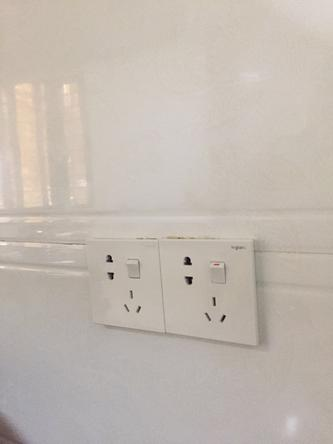switch: (208, 251, 228, 286), (122, 256, 142, 280)
